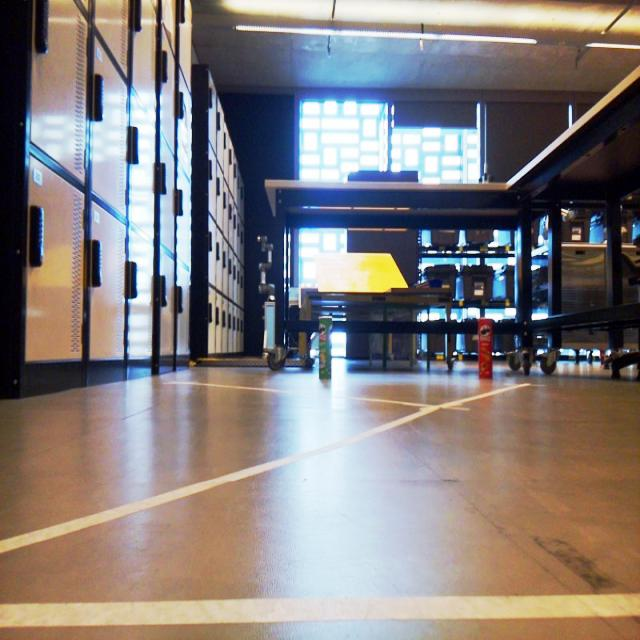greenpringles: (312, 307, 340, 387)
redpringles: (468, 305, 506, 378)
